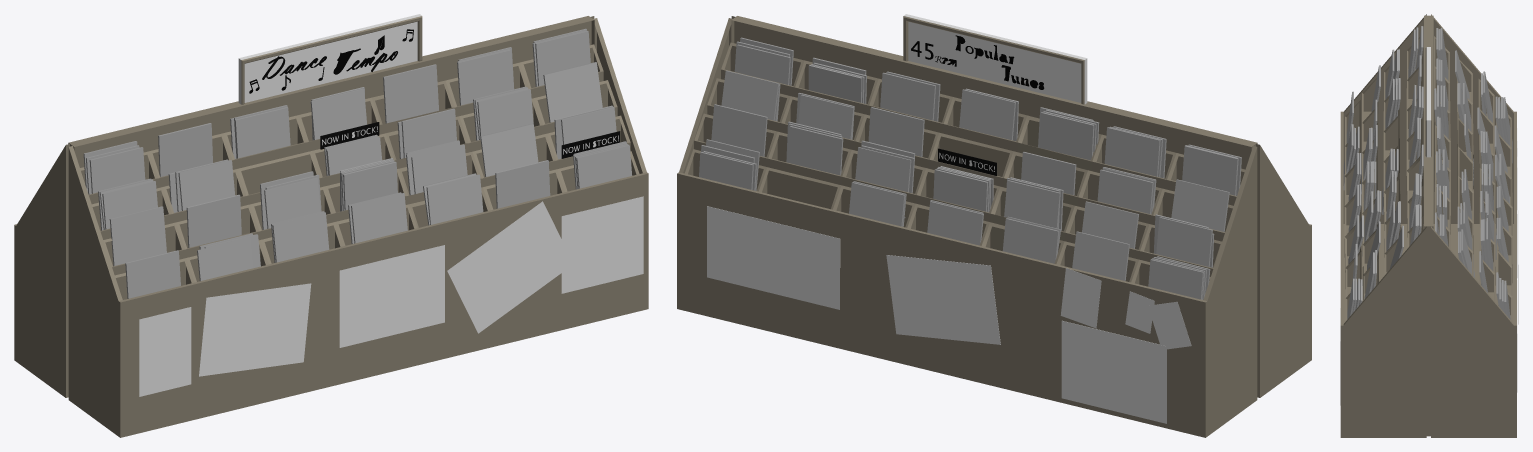
File: RS_Casing2_04_DF.fbx
3 views of the same model, side by side, from view 1: azimuth 30°, elevation 25°; view 2: azimuth 150°, elevation 25°; view 3: azimuth 270°, elevation 25° (orthographic). The views are drawn at different scales.
Visible parts, largest first — view 1: polySurface316; view 2: polySurface316; view 3: polySurface316.
Boxes of the visible parts, x1,y1,x2,y2 form: polySurface316: (14,14,648,437); polySurface316: (677,14,1311,437); polySurface316: (1340,14,1518,437).
Bounding box in the file's own units: 2.35 × 1.26 × 0.8266.
